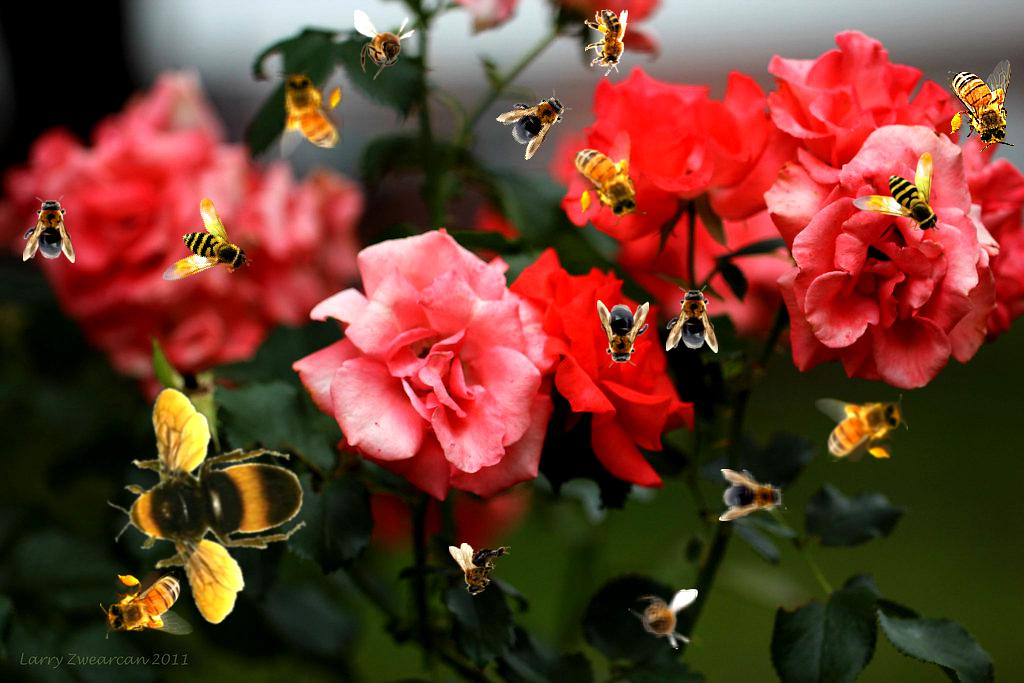Bee: (59, 352, 345, 643), (137, 191, 255, 307), (565, 127, 649, 232), (494, 77, 580, 161), (852, 152, 940, 234), (274, 66, 346, 163), (100, 571, 193, 639), (815, 394, 908, 462), (947, 59, 1015, 152), (628, 589, 698, 650), (354, 10, 415, 80), (597, 300, 649, 368), (666, 285, 718, 353), (719, 469, 787, 521), (23, 195, 75, 263), (582, 8, 632, 77), (449, 543, 511, 596)
